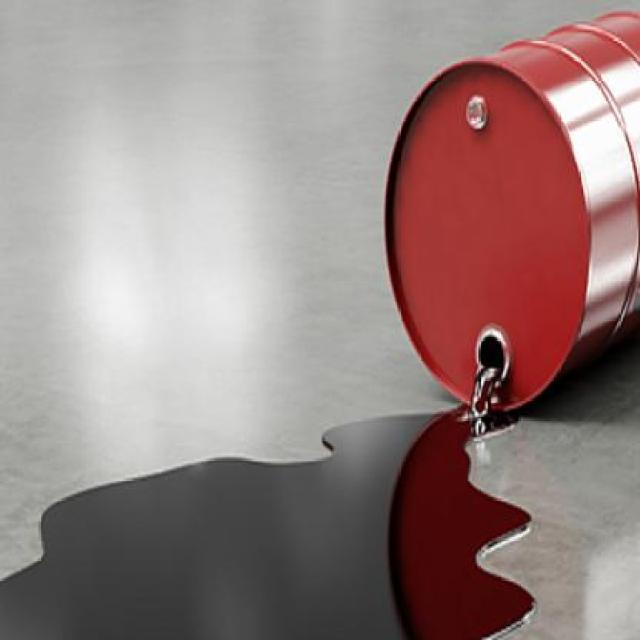spillage: (0, 404, 538, 640)
